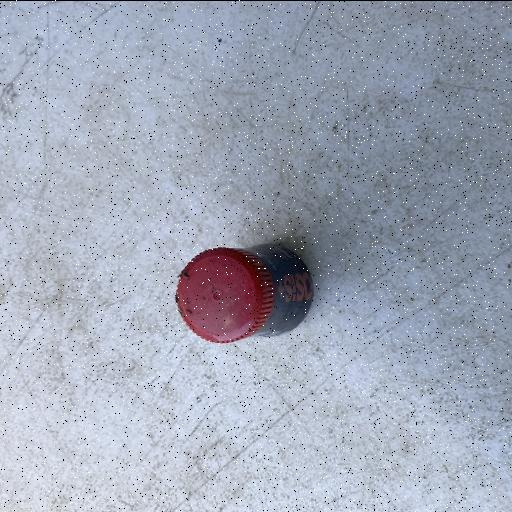Plastic: (172, 242, 316, 346)
